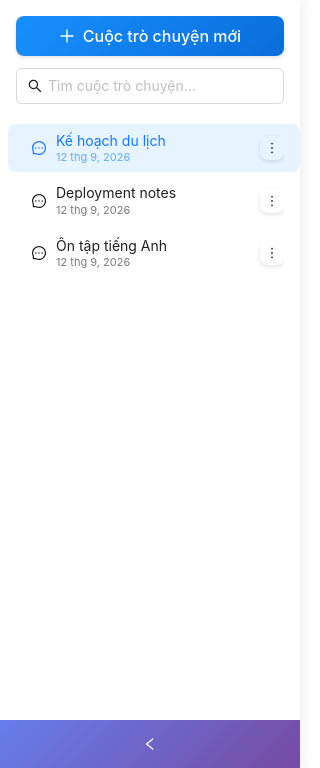
it: Sidebar › search › matches Vietnamese text typed without diacritics
In the field: coordinates (151, 86) [46,73,256,99], type "ke hoach"
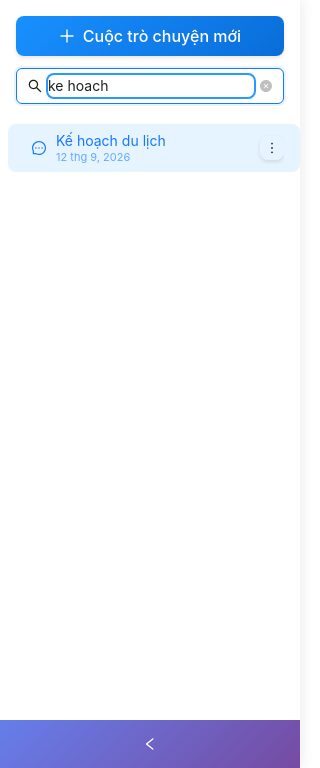
Check: the text "Kế hoạch du lịch" is shown, box [56,132,166,150]
Check: the menu item "Deployment notes" is gone
